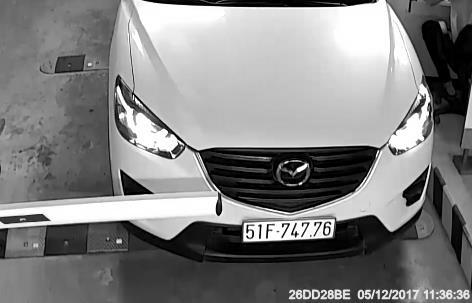License-plate: (239, 210, 341, 253)
